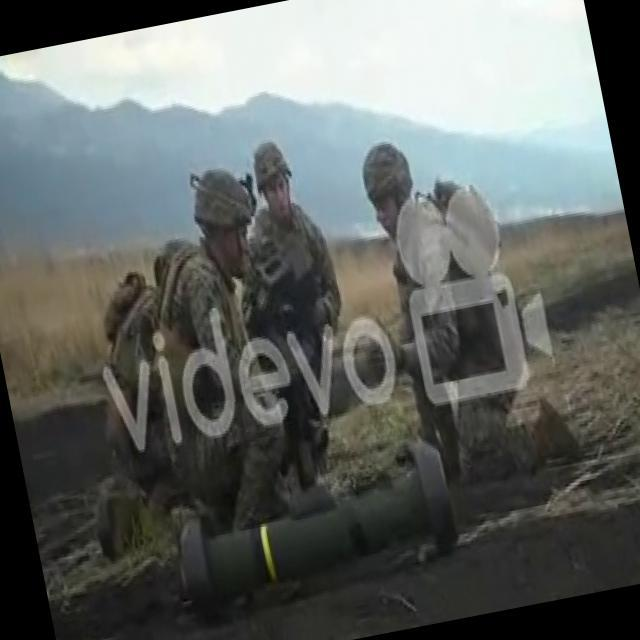rocket: (165, 436, 465, 620)
